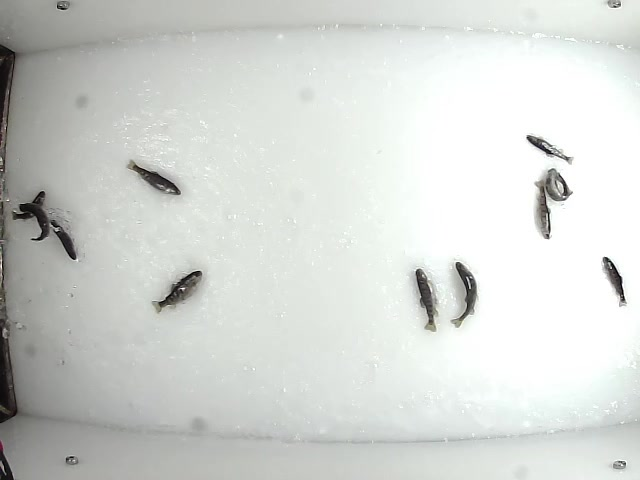fish: (150, 266, 204, 316), (124, 158, 182, 194), (448, 260, 478, 329), (524, 132, 574, 167), (413, 267, 439, 332), (599, 254, 630, 307), (50, 217, 78, 262), (10, 187, 47, 221), (18, 201, 49, 241), (533, 178, 552, 241), (546, 164, 575, 203)
